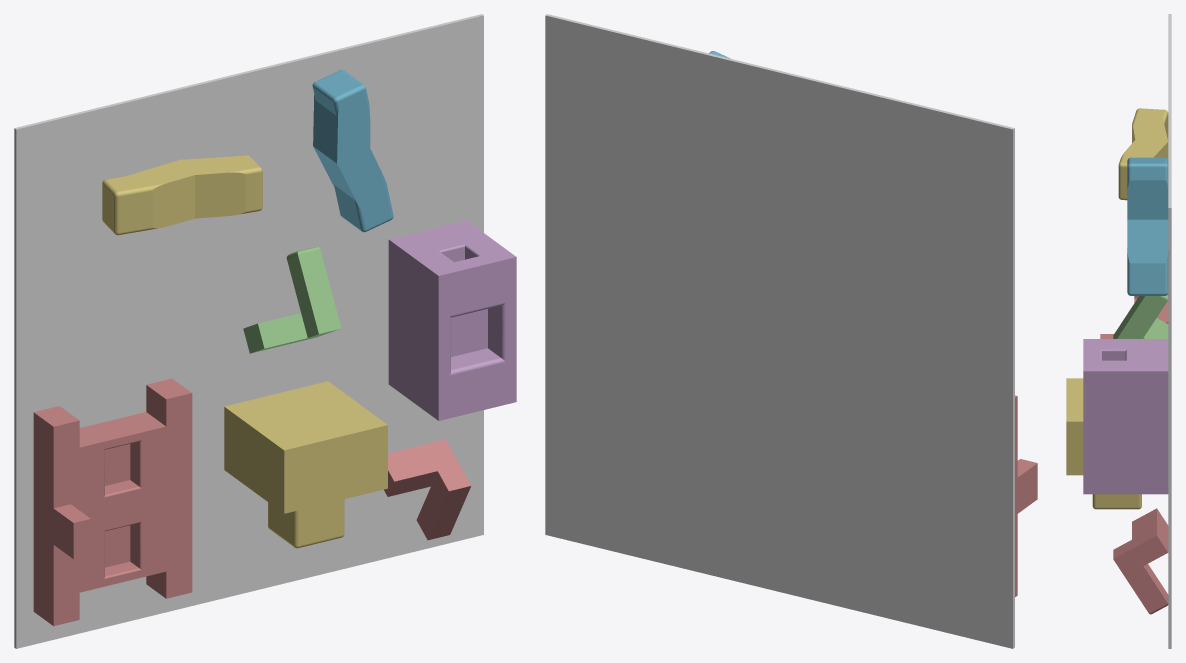
The model's file is pickup_layout.glb.
3 views of the same model, side by side, from view 1: azimuth 30°, elevation 25°; view 2: azimuth 150°, elevation 25°; view 3: azimuth 270°, elevation 25° (orthographic). The views are drawn at different scales.
Visible parts, largest first — view 1: world, 0.obj, 3.obj, 6.obj, 1.obj, 2.obj, 5.obj, 4.obj; view 2: world, 0.obj; view 3: 3.obj, 2.obj, 5.obj, 6.obj, world, 1.obj, 4.obj, 0.obj.
Boxes of the visible parts, <box> form: world: <box>14,14,483,648</box>; 0.obj: <box>33,378,192,626</box>; 3.obj: <box>388,220,516,420</box>; 6.obj: <box>224,381,387,548</box>; 1.obj: <box>102,155,262,235</box>; 2.obj: <box>312,70,393,232</box>; 5.obj: <box>384,439,471,540</box>; 4.obj: <box>243,247,341,353</box>; world: <box>545,14,1014,648</box>; 0.obj: <box>1015,395,1037,596</box>; 3.obj: <box>1083,339,1168,494</box>; 2.obj: <box>1127,157,1168,295</box>; 5.obj: <box>1113,508,1168,614</box>; 6.obj: <box>1066,378,1141,509</box>; world: <box>1168,14,1171,648</box>; 1.obj: <box>1118,108,1168,200</box>; 4.obj: <box>1113,293,1168,338</box>; 0.obj: <box>1100,296,1168,338</box>.
Bounding box in the file's own units: 27 × 28.65 × 6.2.
